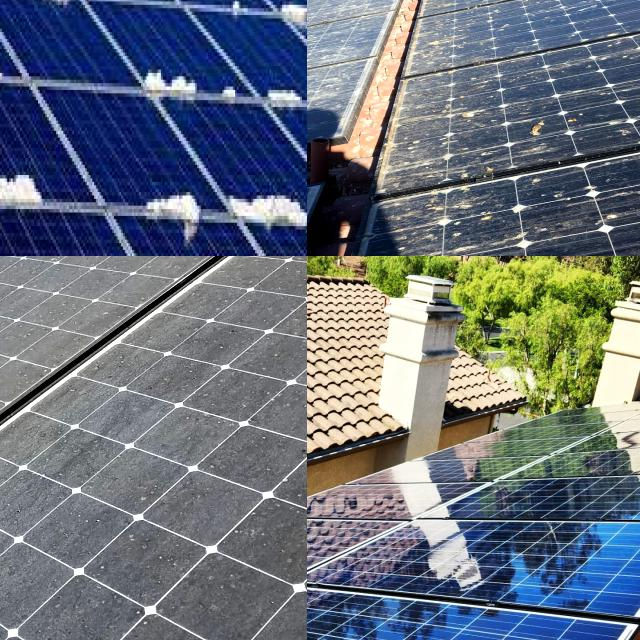bird: (414, 188, 498, 244), (520, 106, 580, 158)
crack: (407, 523, 640, 618), (453, 469, 640, 523), (307, 511, 406, 581), (307, 482, 488, 520), (386, 453, 534, 489), (503, 450, 640, 484)
dust: (132, 322, 307, 640), (2, 384, 106, 541), (0, 269, 84, 451), (0, 538, 132, 640), (109, 256, 304, 304), (34, 256, 166, 311), (0, 454, 67, 551), (0, 256, 68, 309), (0, 256, 106, 284), (0, 256, 61, 297)
panel: (224, 169, 307, 256), (105, 0, 249, 50), (0, 86, 48, 215), (129, 52, 242, 105), (0, 0, 115, 38), (134, 185, 206, 242), (189, 0, 294, 38), (0, 143, 41, 217), (0, 25, 45, 88), (264, 55, 307, 116), (0, 0, 27, 76), (274, 0, 307, 48), (31, 0, 83, 30), (0, 0, 46, 29), (0, 0, 22, 35)
